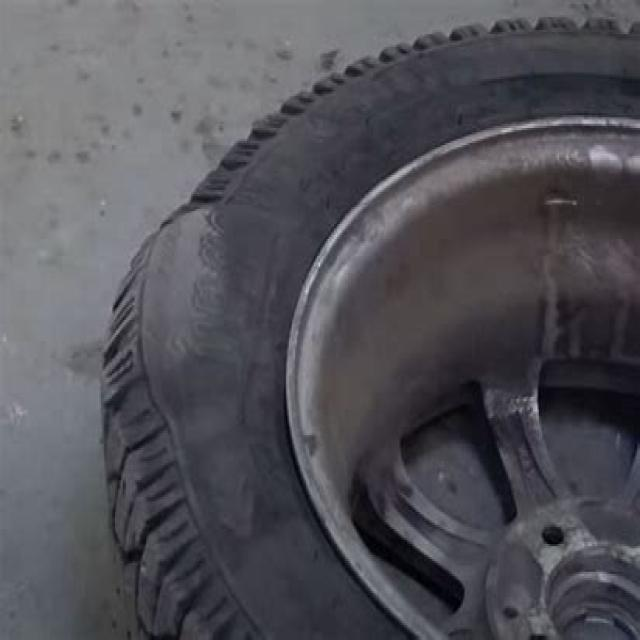Bulge: (90, 198, 244, 434)
